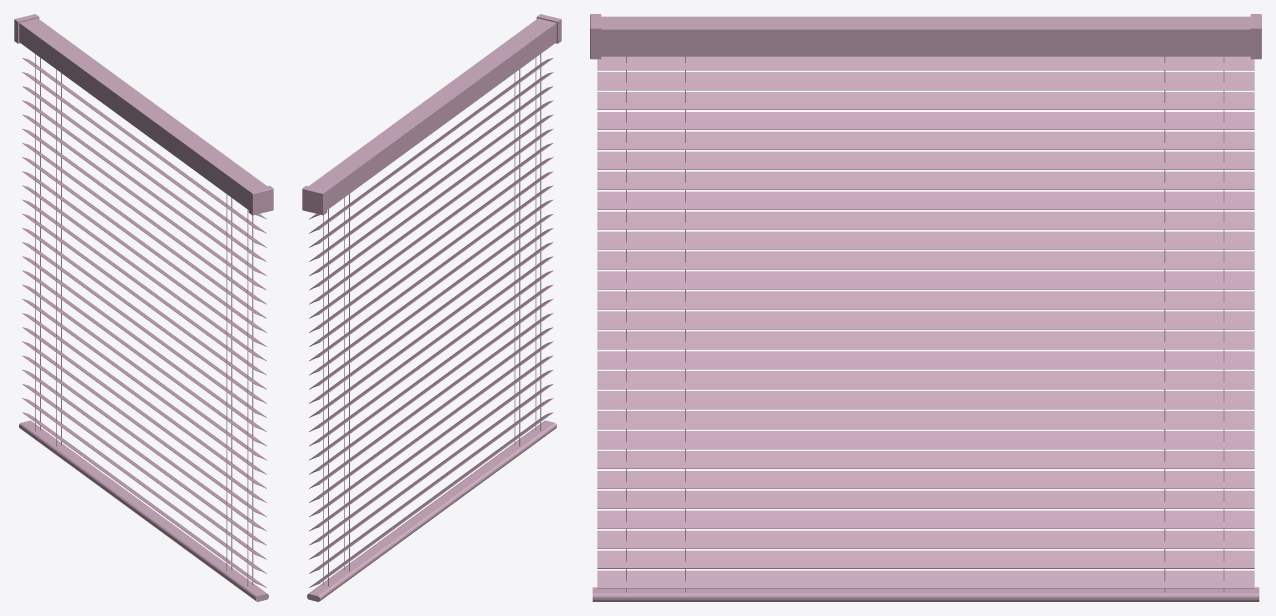
The picture shows the model from 3 angles, left to right: view 1: azimuth 30°, elevation 25°; view 2: azimuth 150°, elevation 25°; view 3: azimuth 270°, elevation 25°; orthographic projection. The views are drawn at different scales.
Parts seen in each view (by area): view 1: Blinds; view 2: Blinds; view 3: Blinds.
Boxes of the visible parts, x1=… form: Blinds: x1=14, y1=14, x2=273, y2=601; Blinds: x1=302, y1=14, x2=561, y2=601; Blinds: x1=590, y1=14, x2=1261, y2=601.
Bounding box in the file's own units: 10.7 × 198 × 209.
